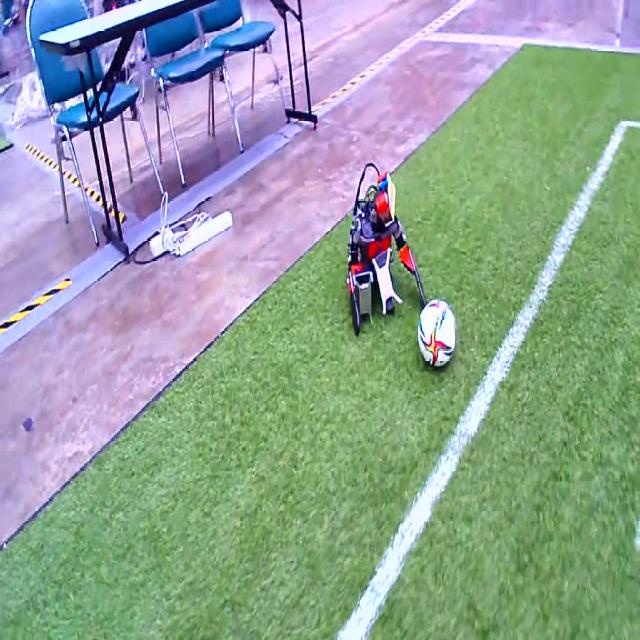ball: (418, 300, 456, 365)
